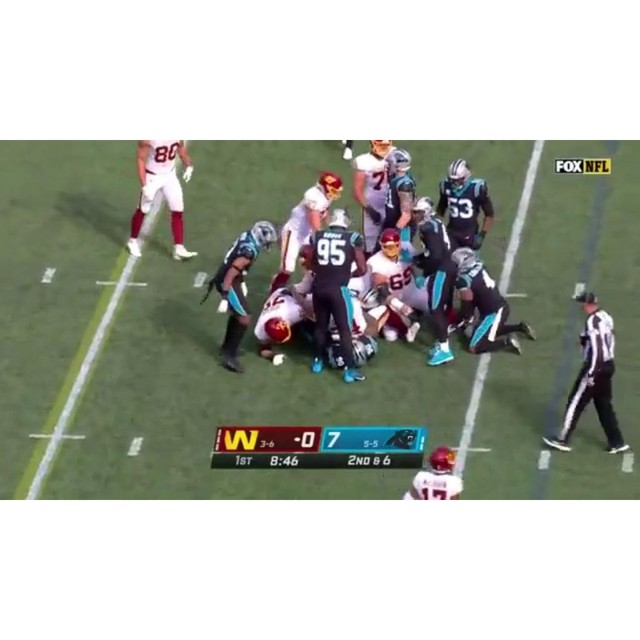american-football-player: (304, 204, 368, 378), (449, 246, 536, 358), (210, 222, 272, 375), (271, 171, 344, 290), (127, 142, 197, 263), (405, 195, 458, 352), (344, 141, 401, 255), (436, 159, 494, 251), (399, 445, 467, 500)
referee: (542, 290, 637, 460)
